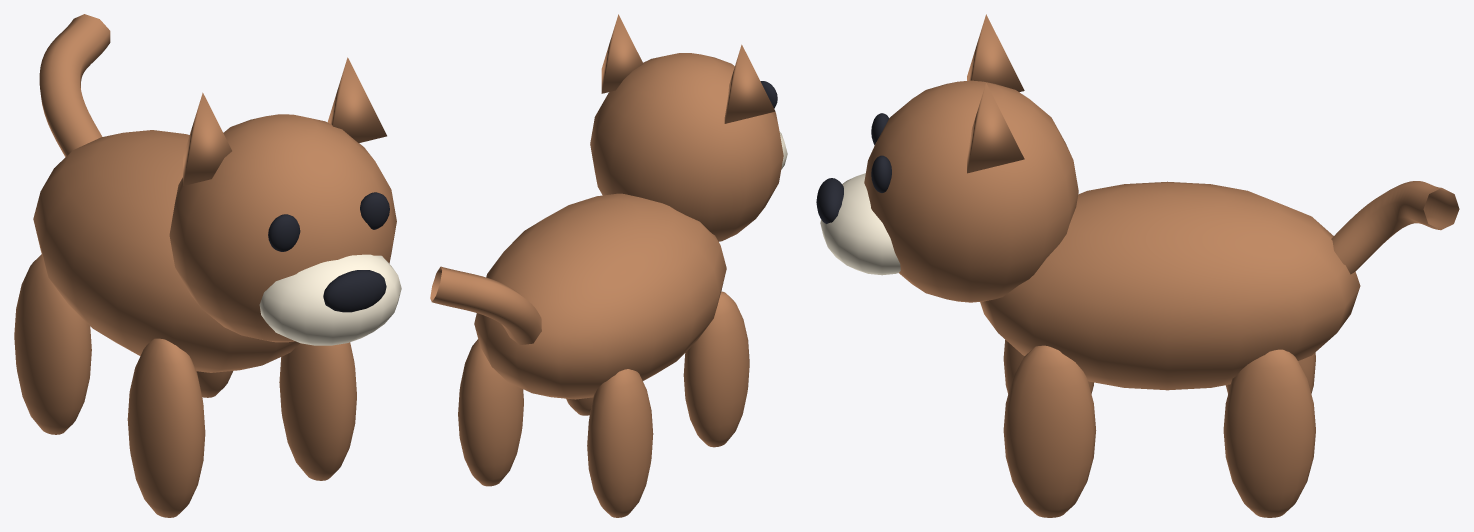
Rendered from word-horse.glb.
The picture shows the model from 3 angles, left to right: view 1: azimuth 30°, elevation 25°; view 2: azimuth 150°, elevation 25°; view 3: azimuth 270°, elevation 25°; orthographic projection. The views are drawn at different scales.
Visible parts, largest first — view 1: animal head, round animal body, little paw, little paw.001, little paw.002, muzzle, tail, pointed ear, pointed ear.001, nose, eye, eye.001 (+1 smaller); view 2: round animal body, animal head, little paw.001, little paw, little paw.003, tail, pointed ear, pointed ear.001; view 3: round animal body, animal head, little paw.002, little paw.003, tail, muzzle, pointed ear.001, pointed ear, nose.
Part boxes in pixels (x1,y1,x2,y2): animal head: [169, 114, 396, 342]; round animal body: [33, 130, 299, 372]; little paw: [127, 338, 205, 517]; little paw.001: [14, 254, 91, 434]; little paw.002: [279, 342, 356, 480]; muzzle: [259, 254, 401, 345]; tail: [39, 14, 110, 156]; pointed ear: [183, 92, 231, 185]; pointed ear.001: [327, 57, 386, 142]; nose: [323, 270, 386, 312]; eye: [268, 214, 300, 251]; eye.001: [360, 192, 389, 229]; round animal body: [474, 193, 726, 399]; animal head: [590, 53, 783, 241]; little paw.001: [587, 369, 653, 517]; little paw: [683, 291, 749, 447]; little paw.003: [458, 339, 523, 486]; tail: [430, 266, 541, 344]; pointed ear: [724, 44, 775, 123]; pointed ear.001: [601, 14, 643, 93]; round animal body: [980, 181, 1360, 390]; animal head: [864, 80, 1078, 302]; little paw.002: [1003, 345, 1096, 517]; little paw.003: [1223, 349, 1315, 517]; tail: [1331, 181, 1459, 274]; muzzle: [820, 173, 900, 275]; pointed ear.001: [967, 83, 1024, 173]; pointed ear: [967, 14, 1024, 92]; nose: [816, 178, 843, 223].
Size of the model in its own units: 0.64 by 1.24 by 1.67.
